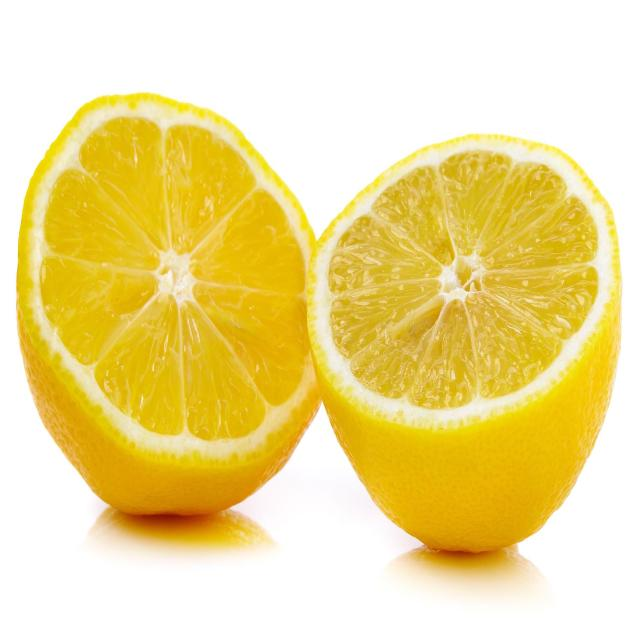lemon: (298, 122, 625, 558)
